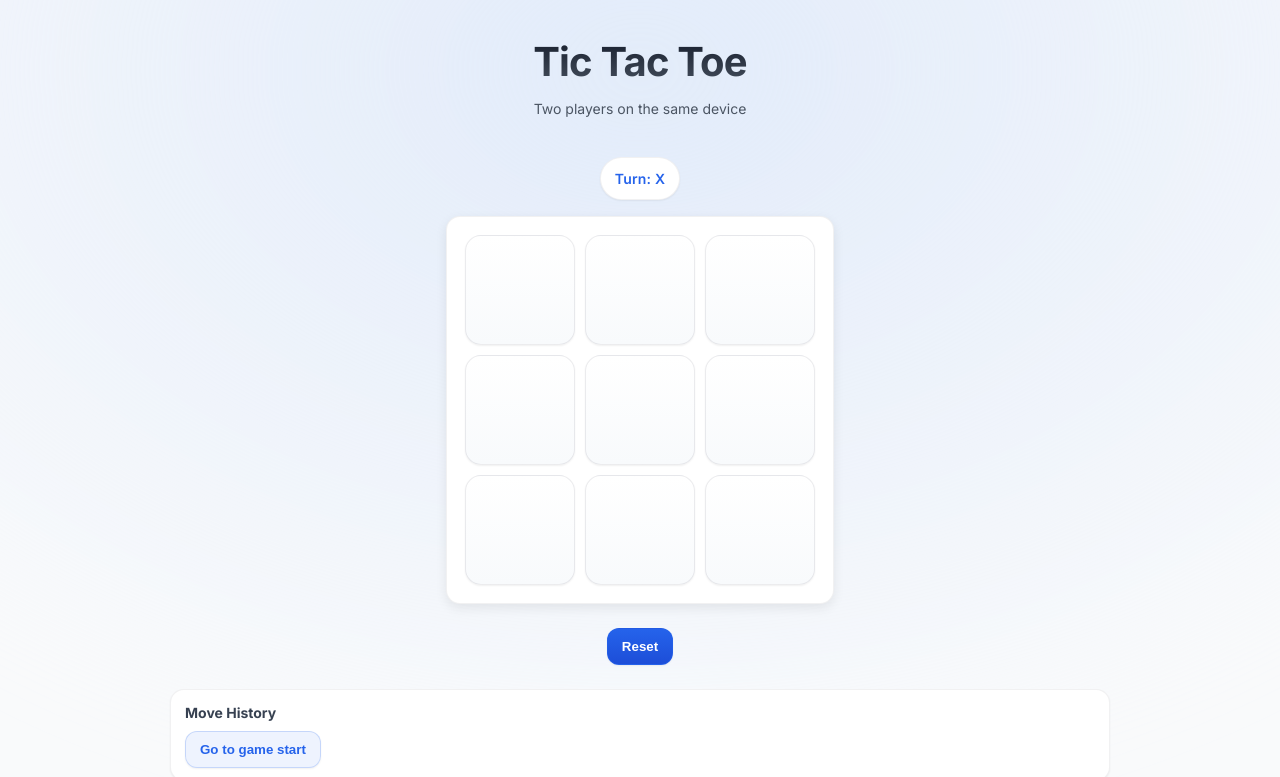
Tic Tac Toe App › detects a winning line and allows reset
Click the button named "Square row" at (520, 290), box [465, 235, 575, 345]
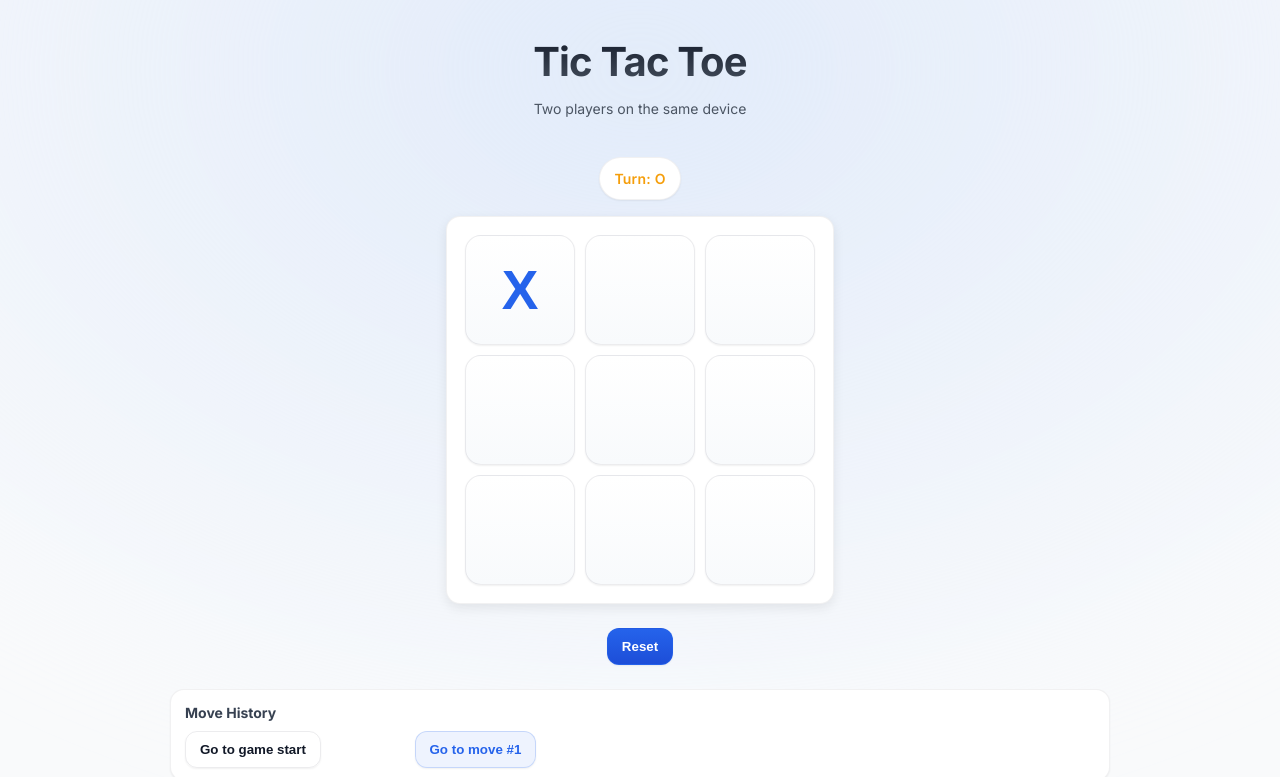
Click the button named "Square row" at (520, 410), box [465, 355, 575, 465]
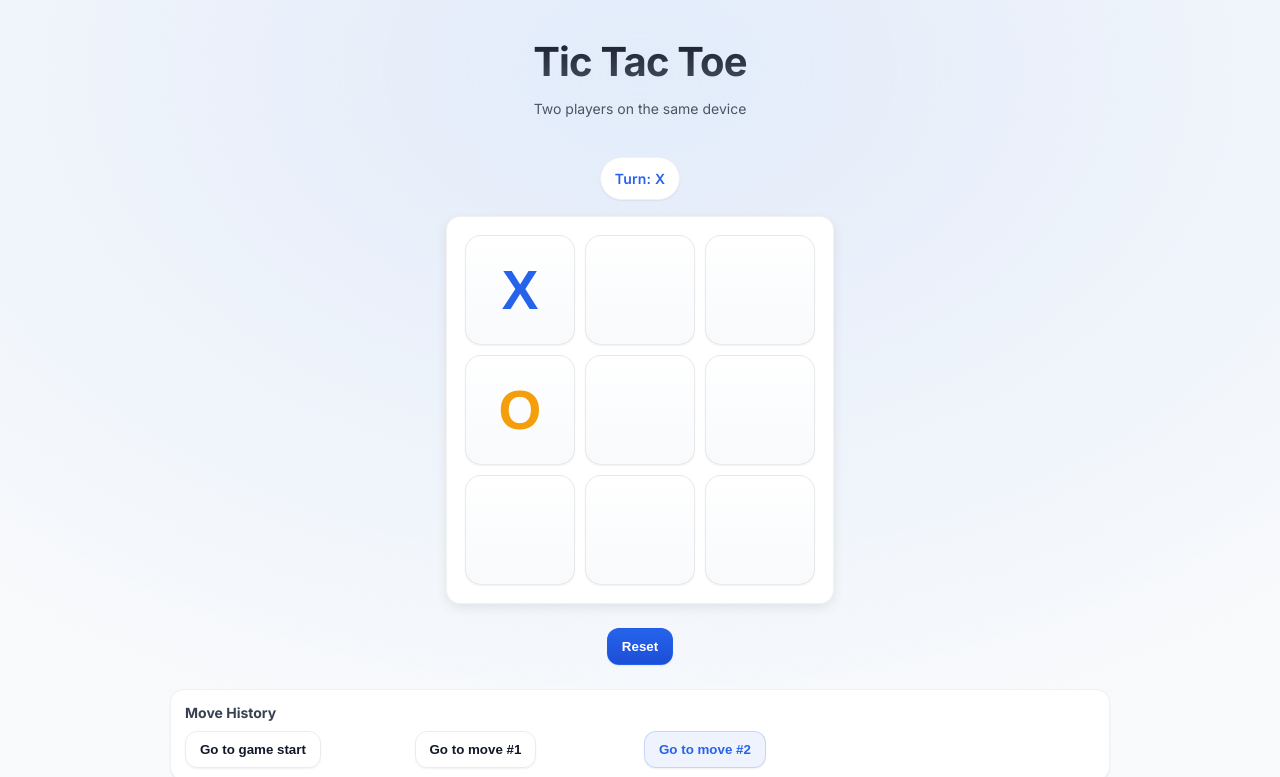
Click the button named "Square row" at (640, 290), box [585, 235, 695, 345]
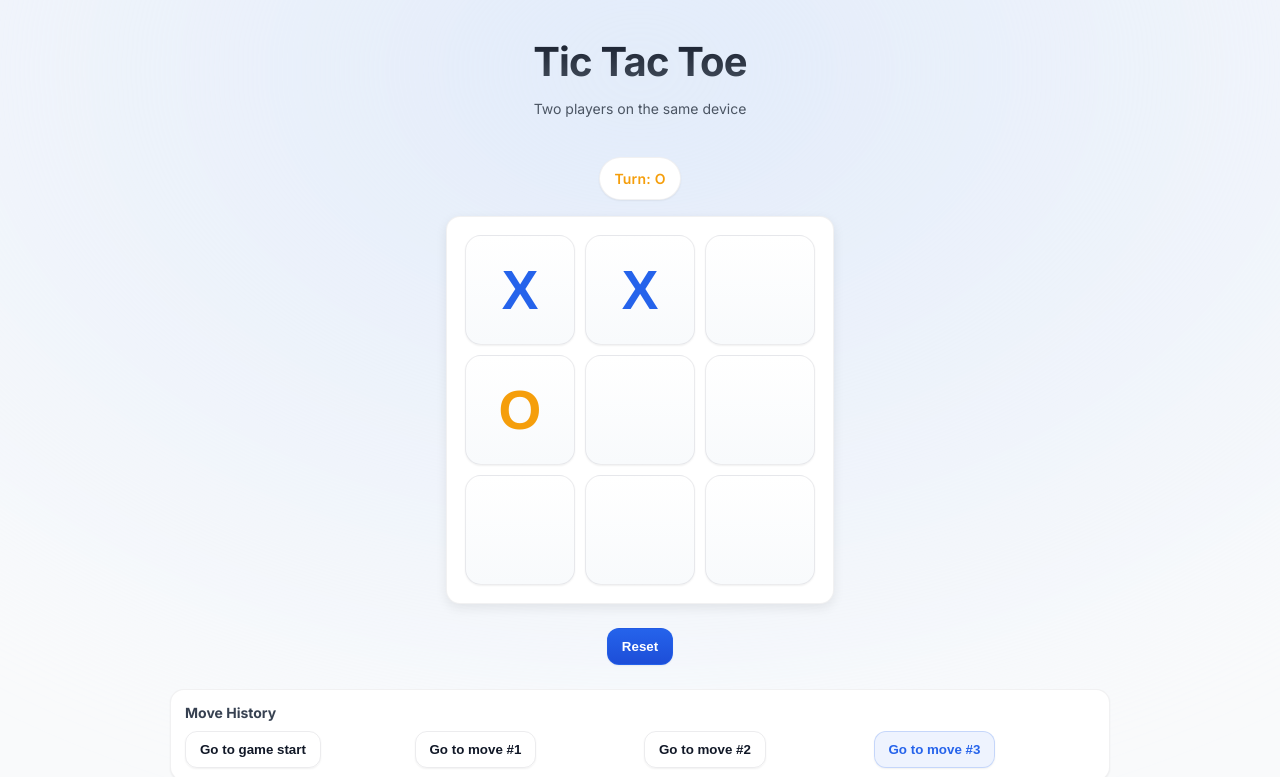
Click the button named "Square row" at (640, 410), box [585, 355, 695, 465]
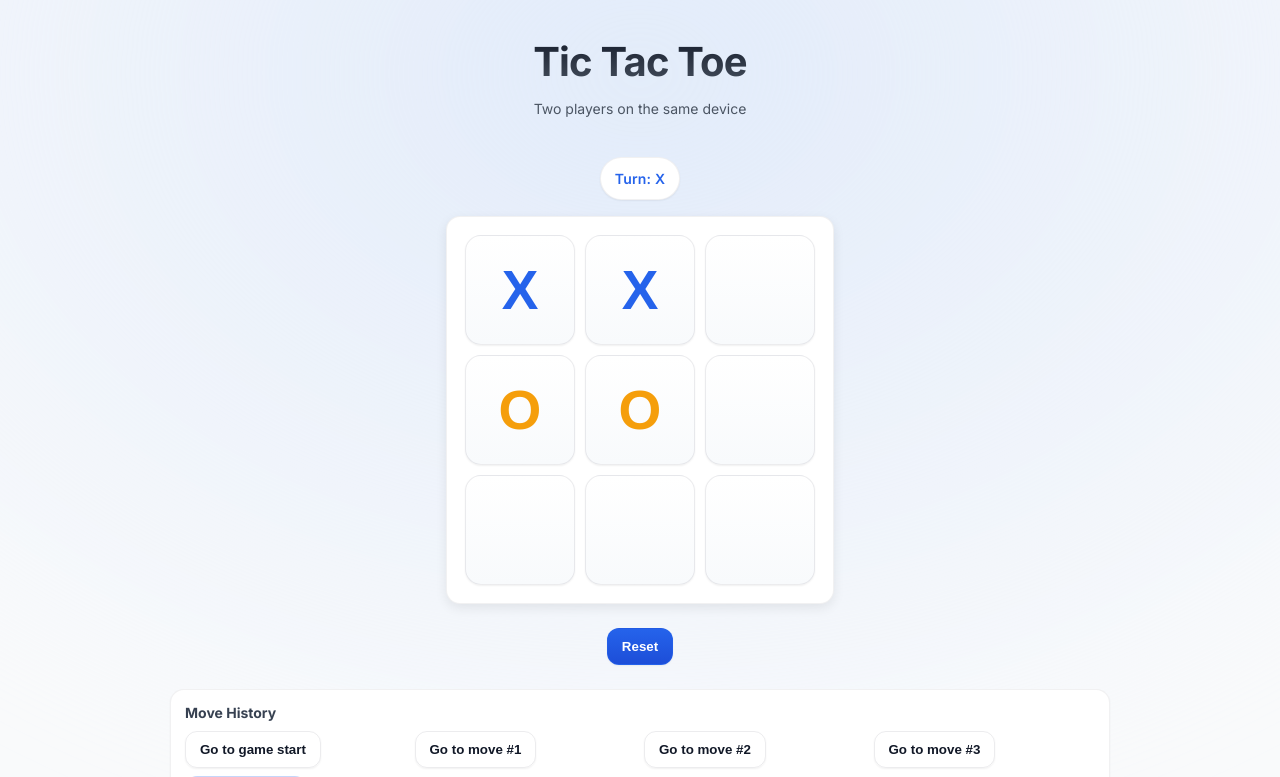
Click the button named "Square row" at (760, 290), box [705, 235, 815, 345]
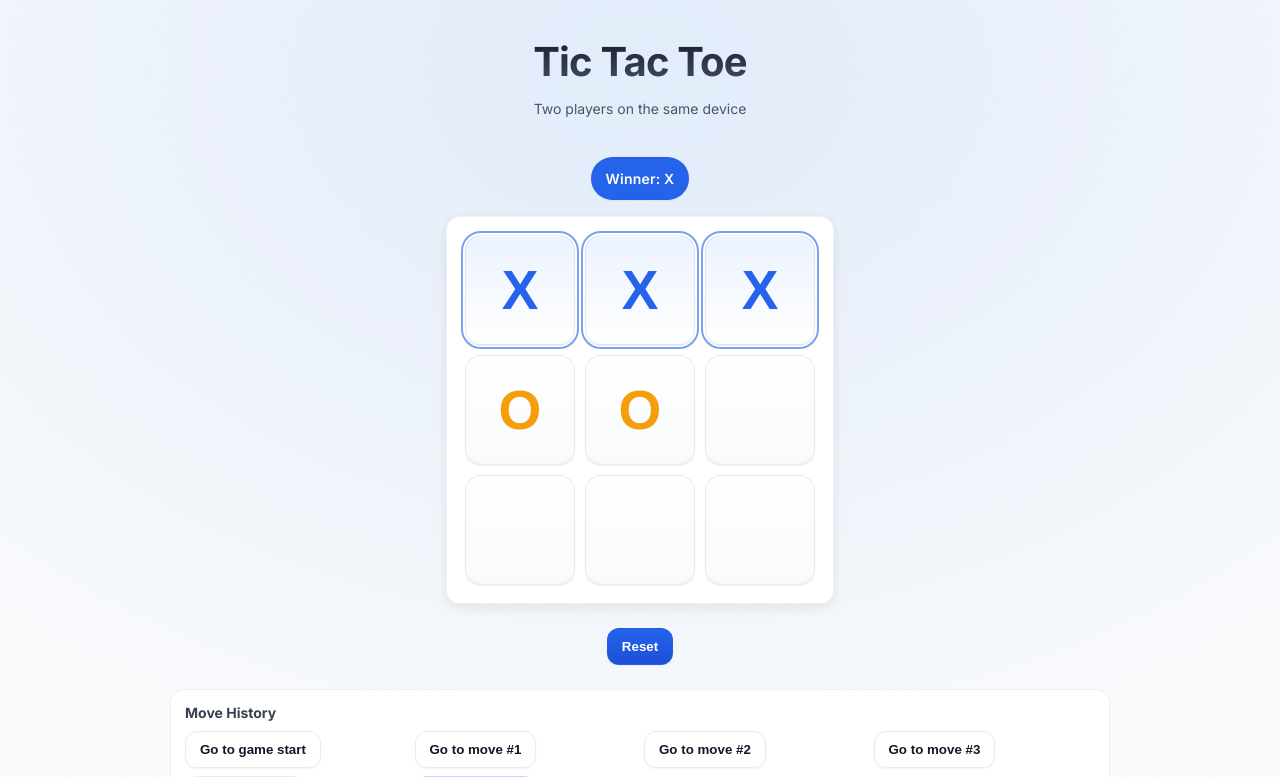
Check: the text "Winner: X" is shown, box [591, 157, 689, 200]
Click the button with aria-label "Reset the game" at (640, 646), box [607, 628, 673, 665]
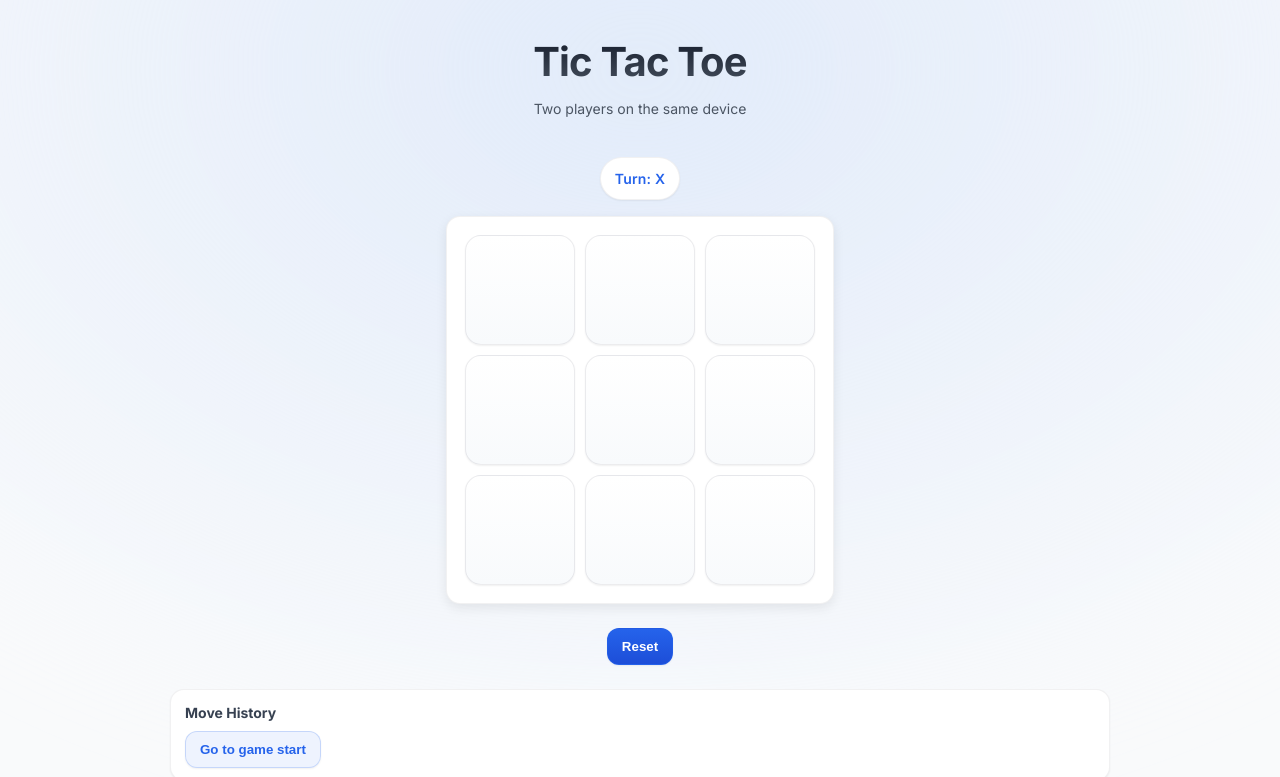
Check: the text "Turn: X" is shown, box [600, 157, 680, 200]
